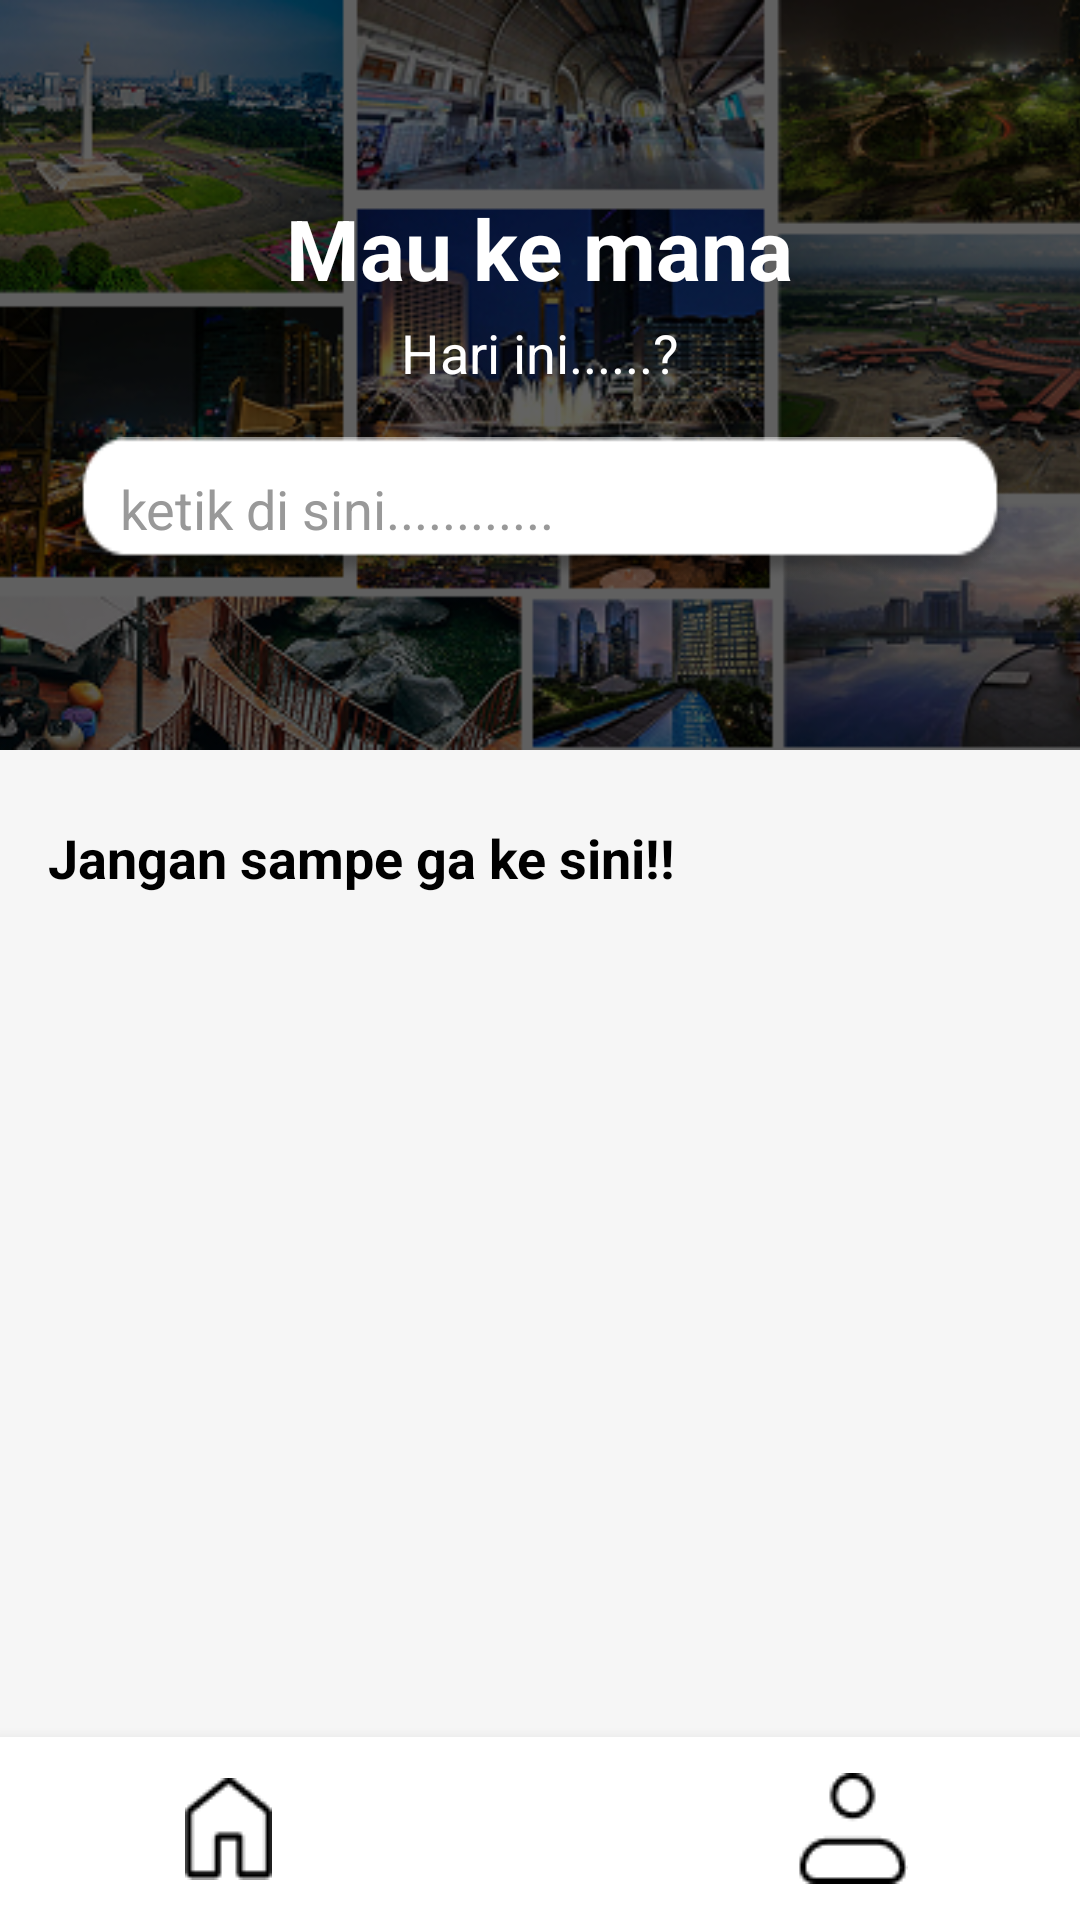

Where icons sit on this 1080w x 1920h app screen, as (x1=x1, y1=y1, x2=x2, y2=y2):
Home: (x1=185, y1=1778, x2=272, y2=1880)
Profile: (x1=799, y1=1773, x2=908, y2=1884)
